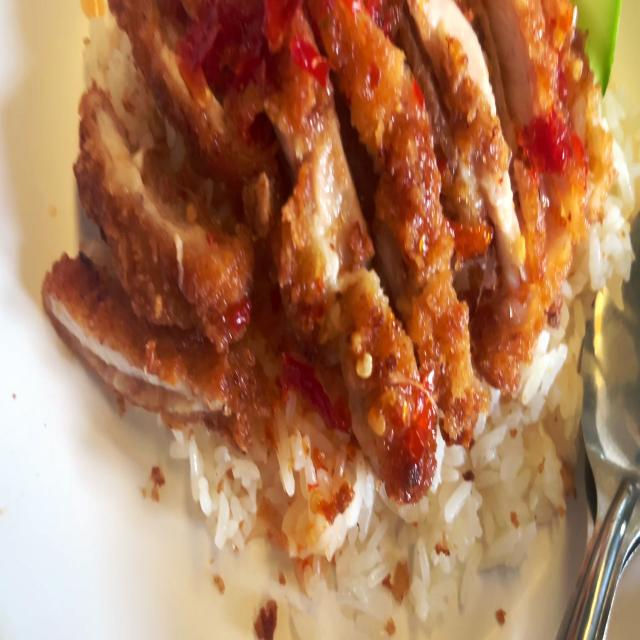chicken_rice: (40, 0, 640, 640)
cucumber: (570, 0, 626, 100)
fried_chicken: (39, 0, 589, 472)
